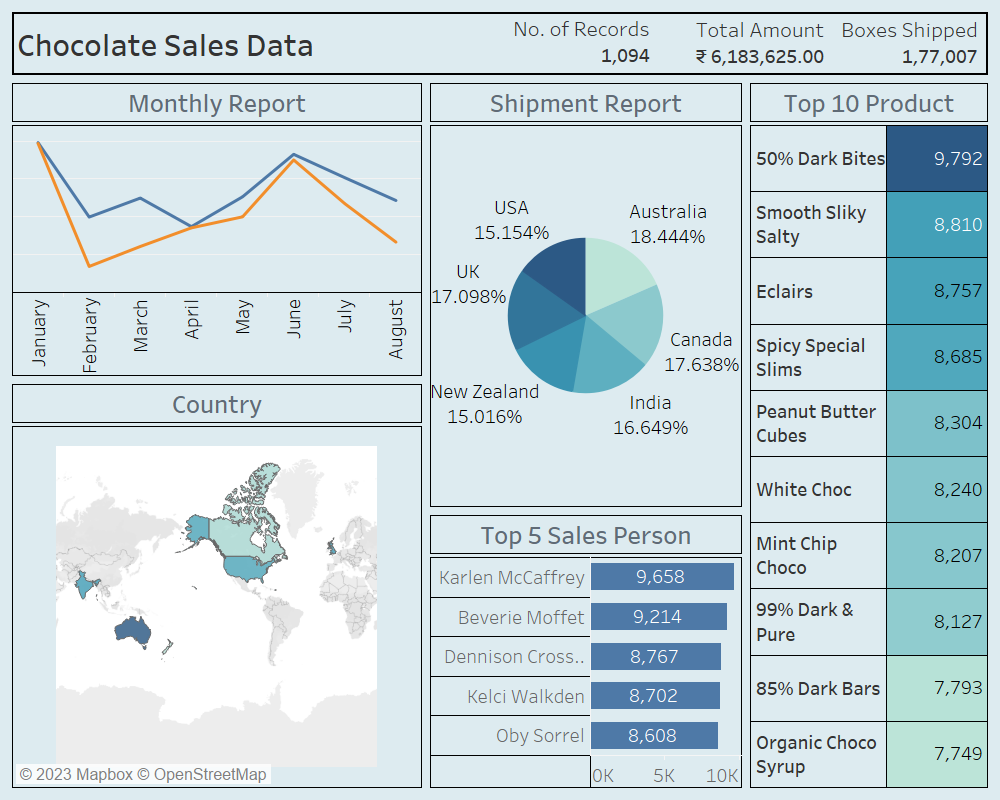

The page's visual inventory and layout, read from the dashboard file:
{"tool":"tableau","page":{"name":"Chocolate Sales Data","canvas":[1000,800],"ordinal":0},"visuals":[{"type":"title","box":[8,8,984,71]},{"type":"worksheet","title":"No. of Records","mark":"Automatic","box":[483,15,171,55]},{"type":"worksheet","title":"Amount","mark":"Automatic","box":[535,16,294,53]},{"type":"worksheet","title":"Boxes Shipped","mark":"Automatic","box":[834,16,148,53]},{"type":"worksheet","title":"Monthly Report","mark":"Line","rows":["Amount","Boxes Shipped"],"cols":["Date"],"box":[8,79,418,301]},{"type":"worksheet","title":"Shipment Report","mark":"Pie","box":[426,79,320,432]},{"type":"worksheet","title":"Top 10 Product","mark":"Square","rows":["Product"],"box":[746,79,246,713]},{"type":"worksheet","title":"Country","mark":"Automatic","box":[8,380,418,412]},{"type":"worksheet","title":"Top 5 Sales Person","mark":"Automatic","rows":["Sales Person"],"cols":["Boxes Shipped"],"box":[426,511,320,281]}]}

Visuals, with their boxes in screenshot pixels (x1, y1, x2, y2), scaled from the page's 1000x800 canvas onto the 1000x800 screenshot:
title: {"left": 8, "top": 8, "right": 992, "bottom": 79}
"No. of Records" worksheet: {"left": 483, "top": 15, "right": 654, "bottom": 70}
"Amount" worksheet: {"left": 535, "top": 16, "right": 829, "bottom": 69}
"Boxes Shipped" worksheet: {"left": 834, "top": 16, "right": 982, "bottom": 69}
"Monthly Report" worksheet (Line marks): {"left": 8, "top": 79, "right": 426, "bottom": 380}
"Shipment Report" worksheet (Pie marks): {"left": 426, "top": 79, "right": 746, "bottom": 511}
"Top 10 Product" worksheet (Square marks): {"left": 746, "top": 79, "right": 992, "bottom": 792}
"Country" worksheet: {"left": 8, "top": 380, "right": 426, "bottom": 792}
"Top 5 Sales Person" worksheet: {"left": 426, "top": 511, "right": 746, "bottom": 792}
